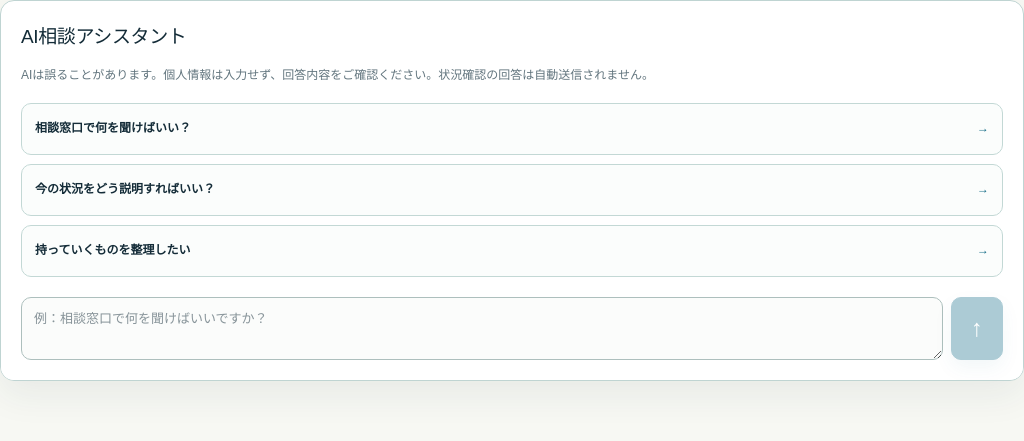
SupportChat conversation lifecycle › shows the personal-identifier notice when the server rejects the message
In the text box named "相談したいこと": (482, 328) [21,297,943,360], type "パスポート番号 TR1234567"
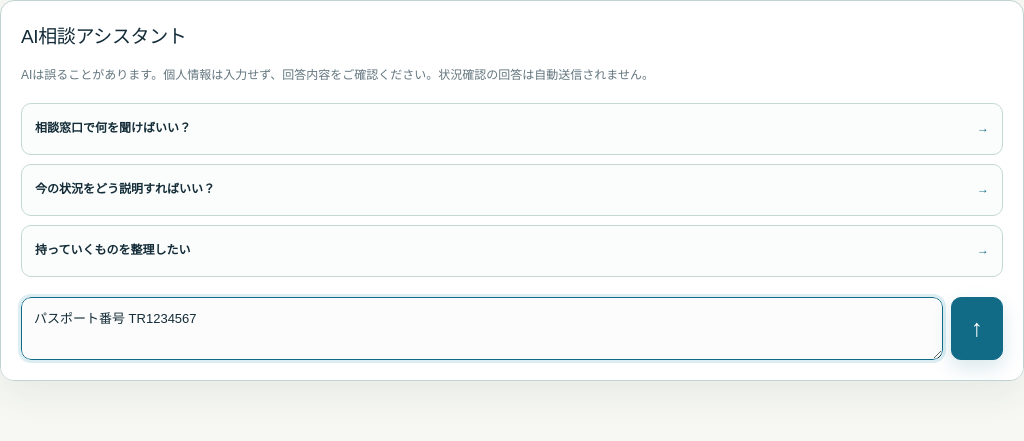
Click the button named "送る": (977, 328) [951,297,1003,360]
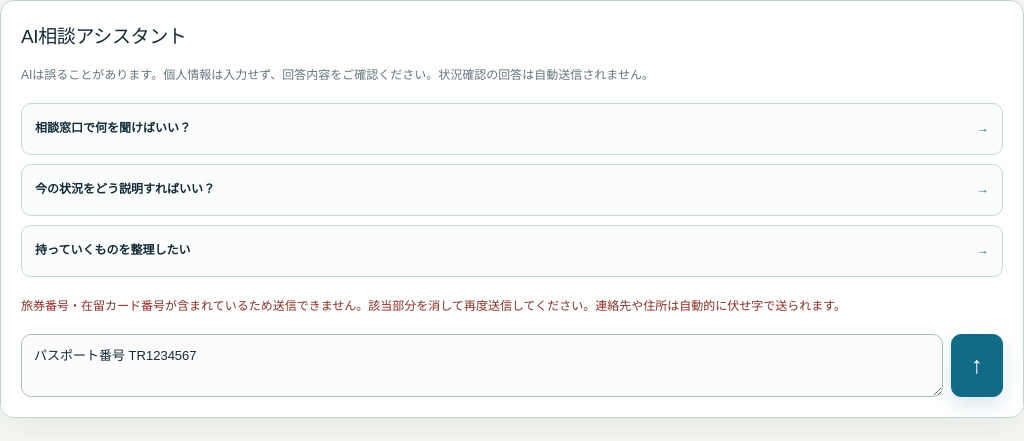
Result: the message shows "旅券番号" at [21,299,846,313]
